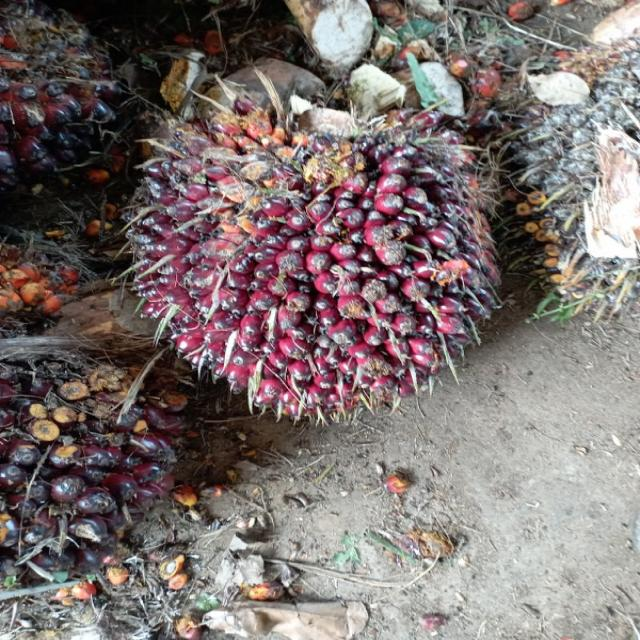fraksi 1: (125, 74, 518, 418)
